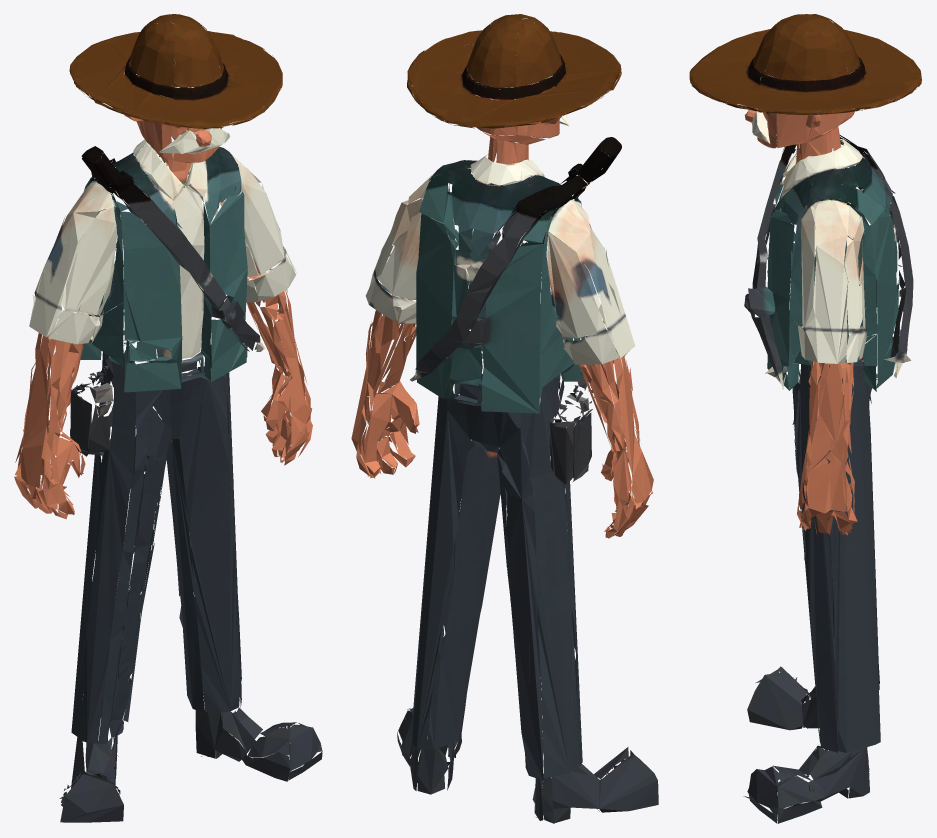
Rendered from habitant.glb.
3 renders of one model, left to right at view 1: azimuth 30°, elevation 25°; view 2: azimuth 150°, elevation 25°; view 3: azimuth 270°, elevation 25°, orthographic. The views are drawn at different scales.
Visible parts, largest first — view 1: world; view 2: world; view 3: world.
Boxes of the visible parts, box(x1,y1,x2,y2) form: world: box(14, 14, 322, 822); world: box(351, 14, 658, 823); world: box(689, 14, 921, 823).
Bounding box in the file's own units: 0.3936 × 1.01 × 0.2847.
Materials: 1 (1 with a texture image).
